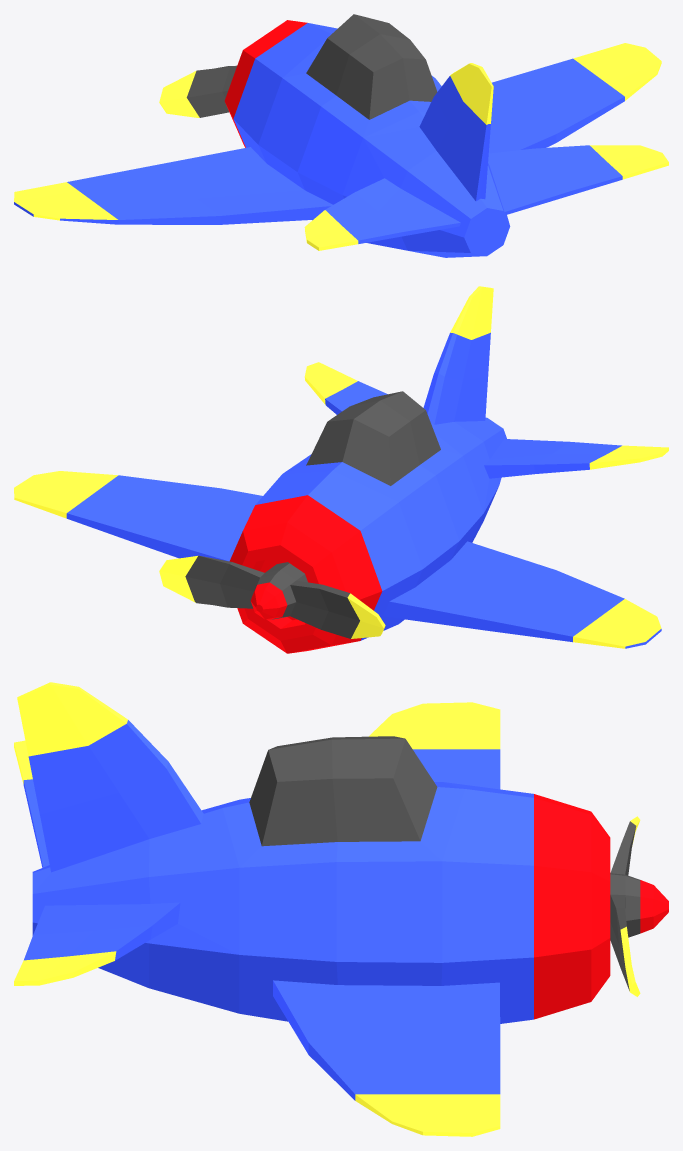
File: airplane.glb
3 views of the same model, one above another, from view 1: azimuth 30°, elevation 25°; view 2: azimuth 150°, elevation 25°; view 3: azimuth 270°, elevation 25° (orthographic). The views are drawn at different scales.
Parts seen in each view (by area): view 1: Plan, Propeller; view 2: Plan, Propeller; view 3: Plan, Propeller.
Part boxes in pixels (<box>): Plan: <box>14,14,668,257</box>; Propeller: <box>159,65,236,117</box>; Plan: <box>14,286,668,653</box>; Propeller: <box>159,555,385,638</box>; Plan: <box>14,682,610,1136</box>; Propeller: <box>610,816,668,996</box>.
Bounding box in the file's own units: 7.06 × 2.63 × 4.54.
